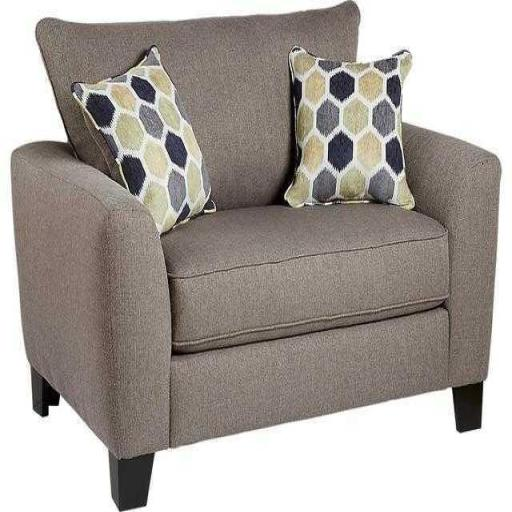chair: (6, 0, 504, 512)
